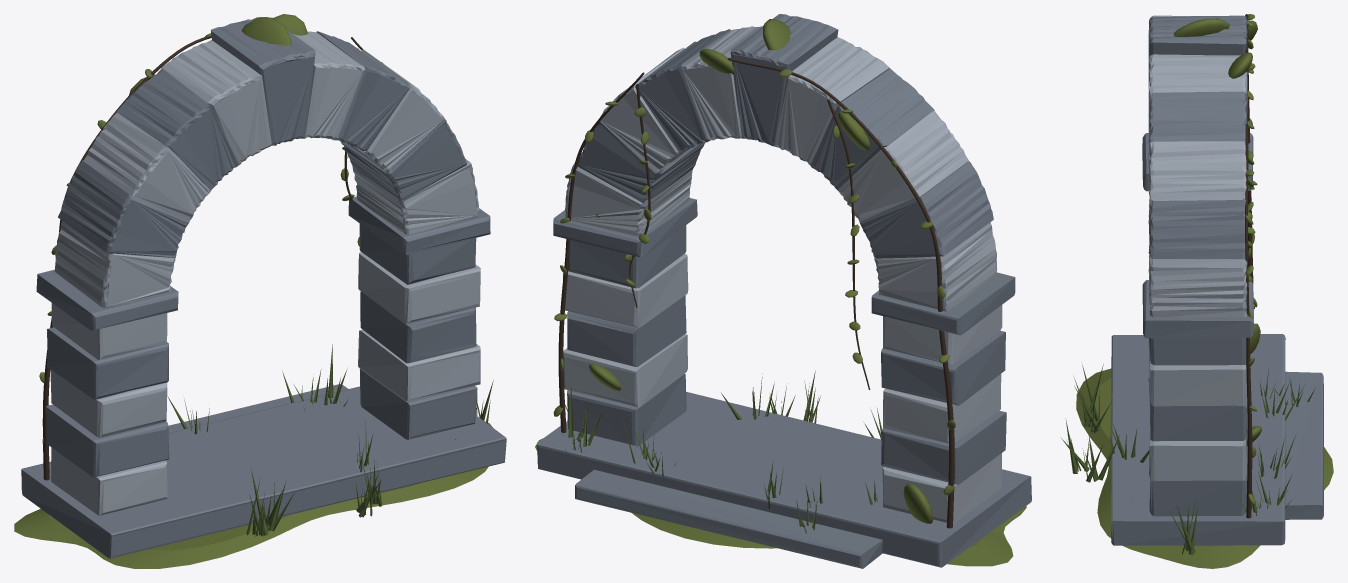
The model's file is BAYOU_PORTAL.glb.
The picture shows the model from 3 angles, left to right: view 1: azimuth 30°, elevation 25°; view 2: azimuth 150°, elevation 25°; view 3: azimuth 270°, elevation 25°; orthographic projection. The views are drawn at different scales.
Parts seen in each view (by area): view 1: Stone_B, Stone_A, Platform, Ground, Grass, Moss, Vines, Step; view 2: Stone_B, Stone_A, Platform, Step, Vines, Moss, Ground, Grass, Vine_Leaves; view 3: Stone_B, Stone_A, Platform, Step, Ground, Grass, Vines, Moss, Vine_Leaves.
Boxes of the visible parts, box(x1,y1,x2,y2) form: Stone_B: box(36, 17, 490, 477); Stone_A: box(50, 31, 480, 515); Platform: box(21, 386, 506, 558); Ground: box(14, 421, 492, 568); Grass: box(167, 344, 493, 536); Moss: box(129, 14, 307, 94); Vines: box(42, 36, 362, 480); Step: box(168, 384, 348, 432); Stone_B: box(553, 14, 1015, 484); Stone_A: box(563, 26, 1002, 523); Platform: box(537, 392, 1031, 567); Step: box(575, 469, 882, 568); Vines: box(558, 58, 954, 528); Moss: box(589, 19, 932, 523); Ground: box(535, 438, 1026, 566); Grass: box(561, 370, 882, 533); Vine_Leaves: box(553, 69, 955, 495); Stone_B: box(1142, 15, 1253, 516); Stone_A: box(1148, 15, 1247, 480); Platform: box(1111, 334, 1285, 545); Step: box(1285, 371, 1323, 519); Ground: box(1076, 368, 1333, 568); Grass: box(1061, 364, 1315, 554); Vines: box(1245, 14, 1253, 518); Moss: box(1174, 18, 1261, 445); Vine_Leaves: box(1245, 14, 1257, 504).
Bounding box in the file's own units: 15.58 × 14.68 × 8.18.
